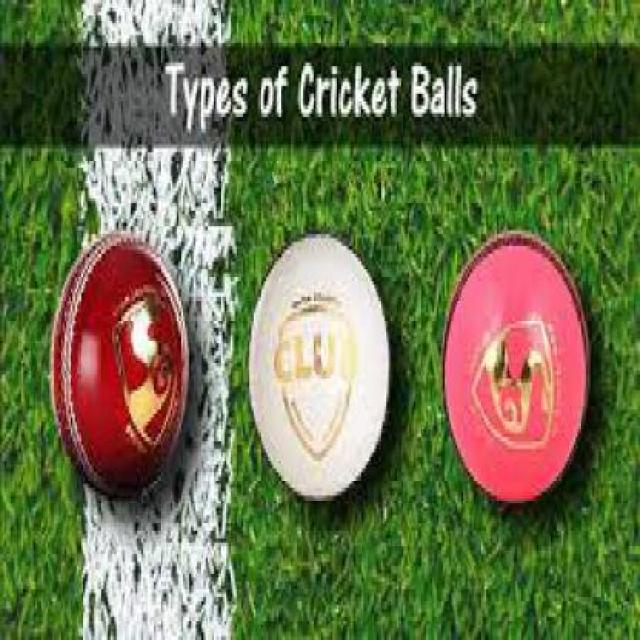ball: (27, 221, 210, 514)
